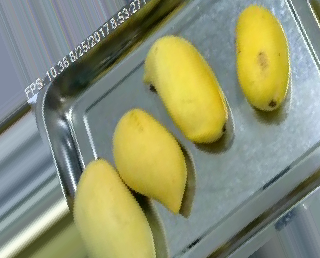Mango: (139, 37, 234, 143), (109, 108, 190, 216), (72, 157, 156, 257), (235, 2, 290, 115)
